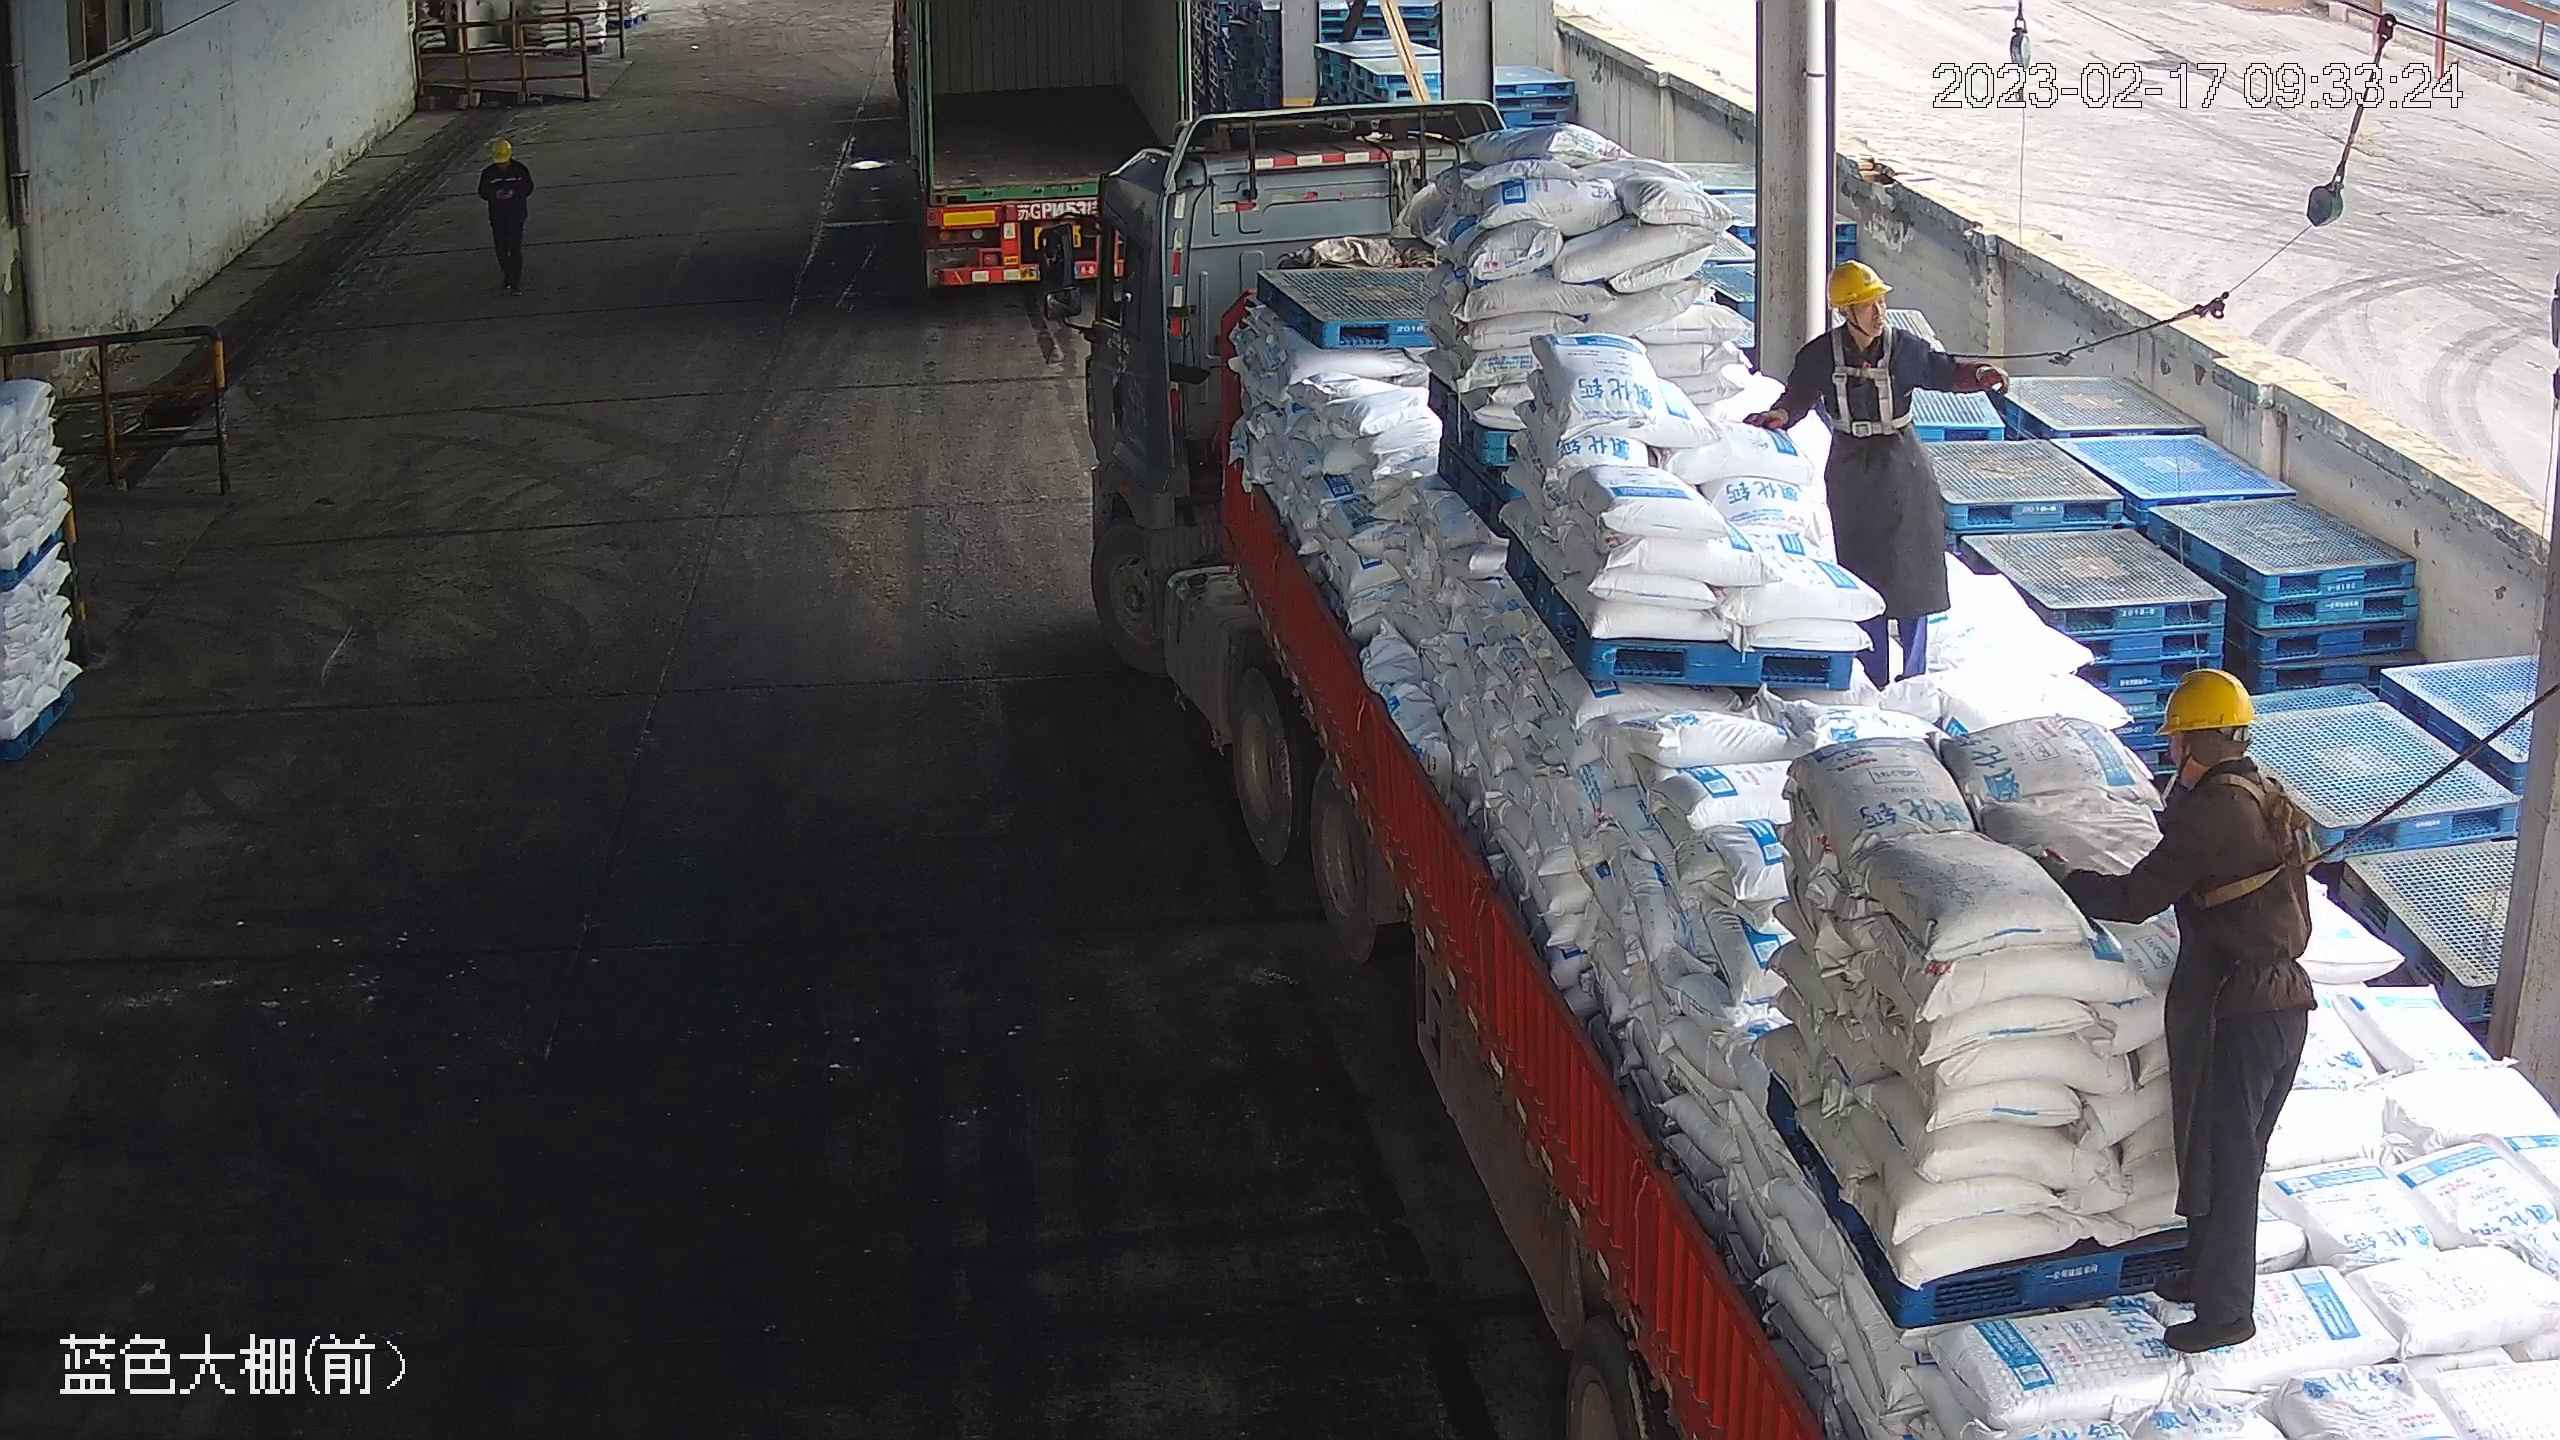belt: (2185, 763, 2336, 909), (1827, 323, 1916, 438)
head: (2152, 666, 2302, 840), (1799, 257, 1935, 382), (478, 136, 529, 185)
helmet: (2154, 663, 2258, 737), (1823, 259, 1888, 309), (483, 137, 513, 161)
people: (2035, 662, 2320, 1350), (1740, 259, 2007, 688), (476, 137, 534, 295)
truck: (1028, 97, 2560, 1440), (886, 1, 1195, 293)
